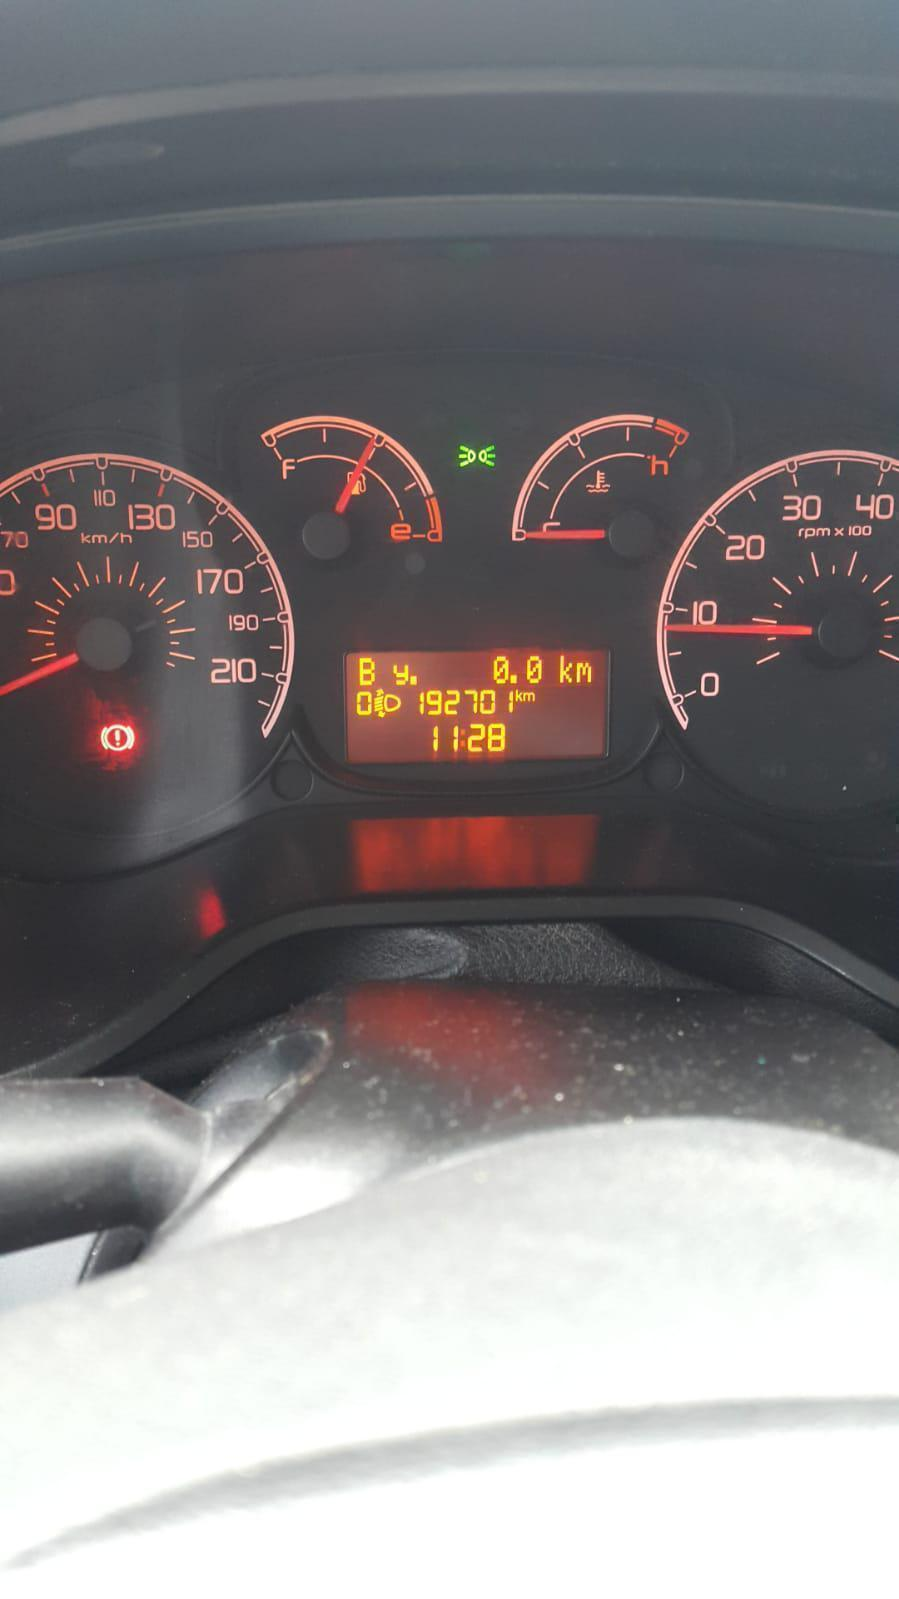,: (509, 672, 519, 686), (409, 674, 418, 687)
0: (524, 655, 543, 685), (491, 655, 508, 684), (479, 687, 497, 715), (355, 690, 372, 717)
1: (431, 723, 443, 754), (452, 723, 459, 754), (418, 690, 425, 716), (507, 687, 513, 715)
2: (467, 722, 486, 753), (443, 687, 461, 716)
7: (463, 687, 479, 714)
8: (487, 722, 507, 751)
9: (425, 689, 442, 715)
X: (356, 655, 377, 685), (557, 652, 575, 685), (574, 660, 596, 683), (391, 662, 408, 687), (459, 726, 467, 749), (522, 690, 536, 702), (514, 687, 522, 702)
odometer: (338, 642, 622, 772)
